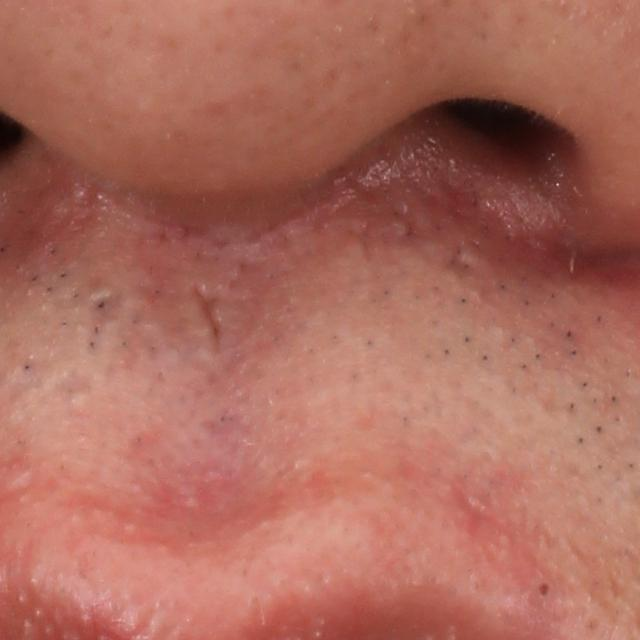atrophic_scar: (192, 282, 232, 356), (85, 290, 123, 360)
comedo: (533, 579, 556, 603)
